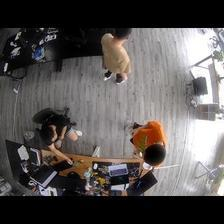normal: (29, 107, 79, 159), (121, 118, 170, 166), (97, 28, 137, 86)
